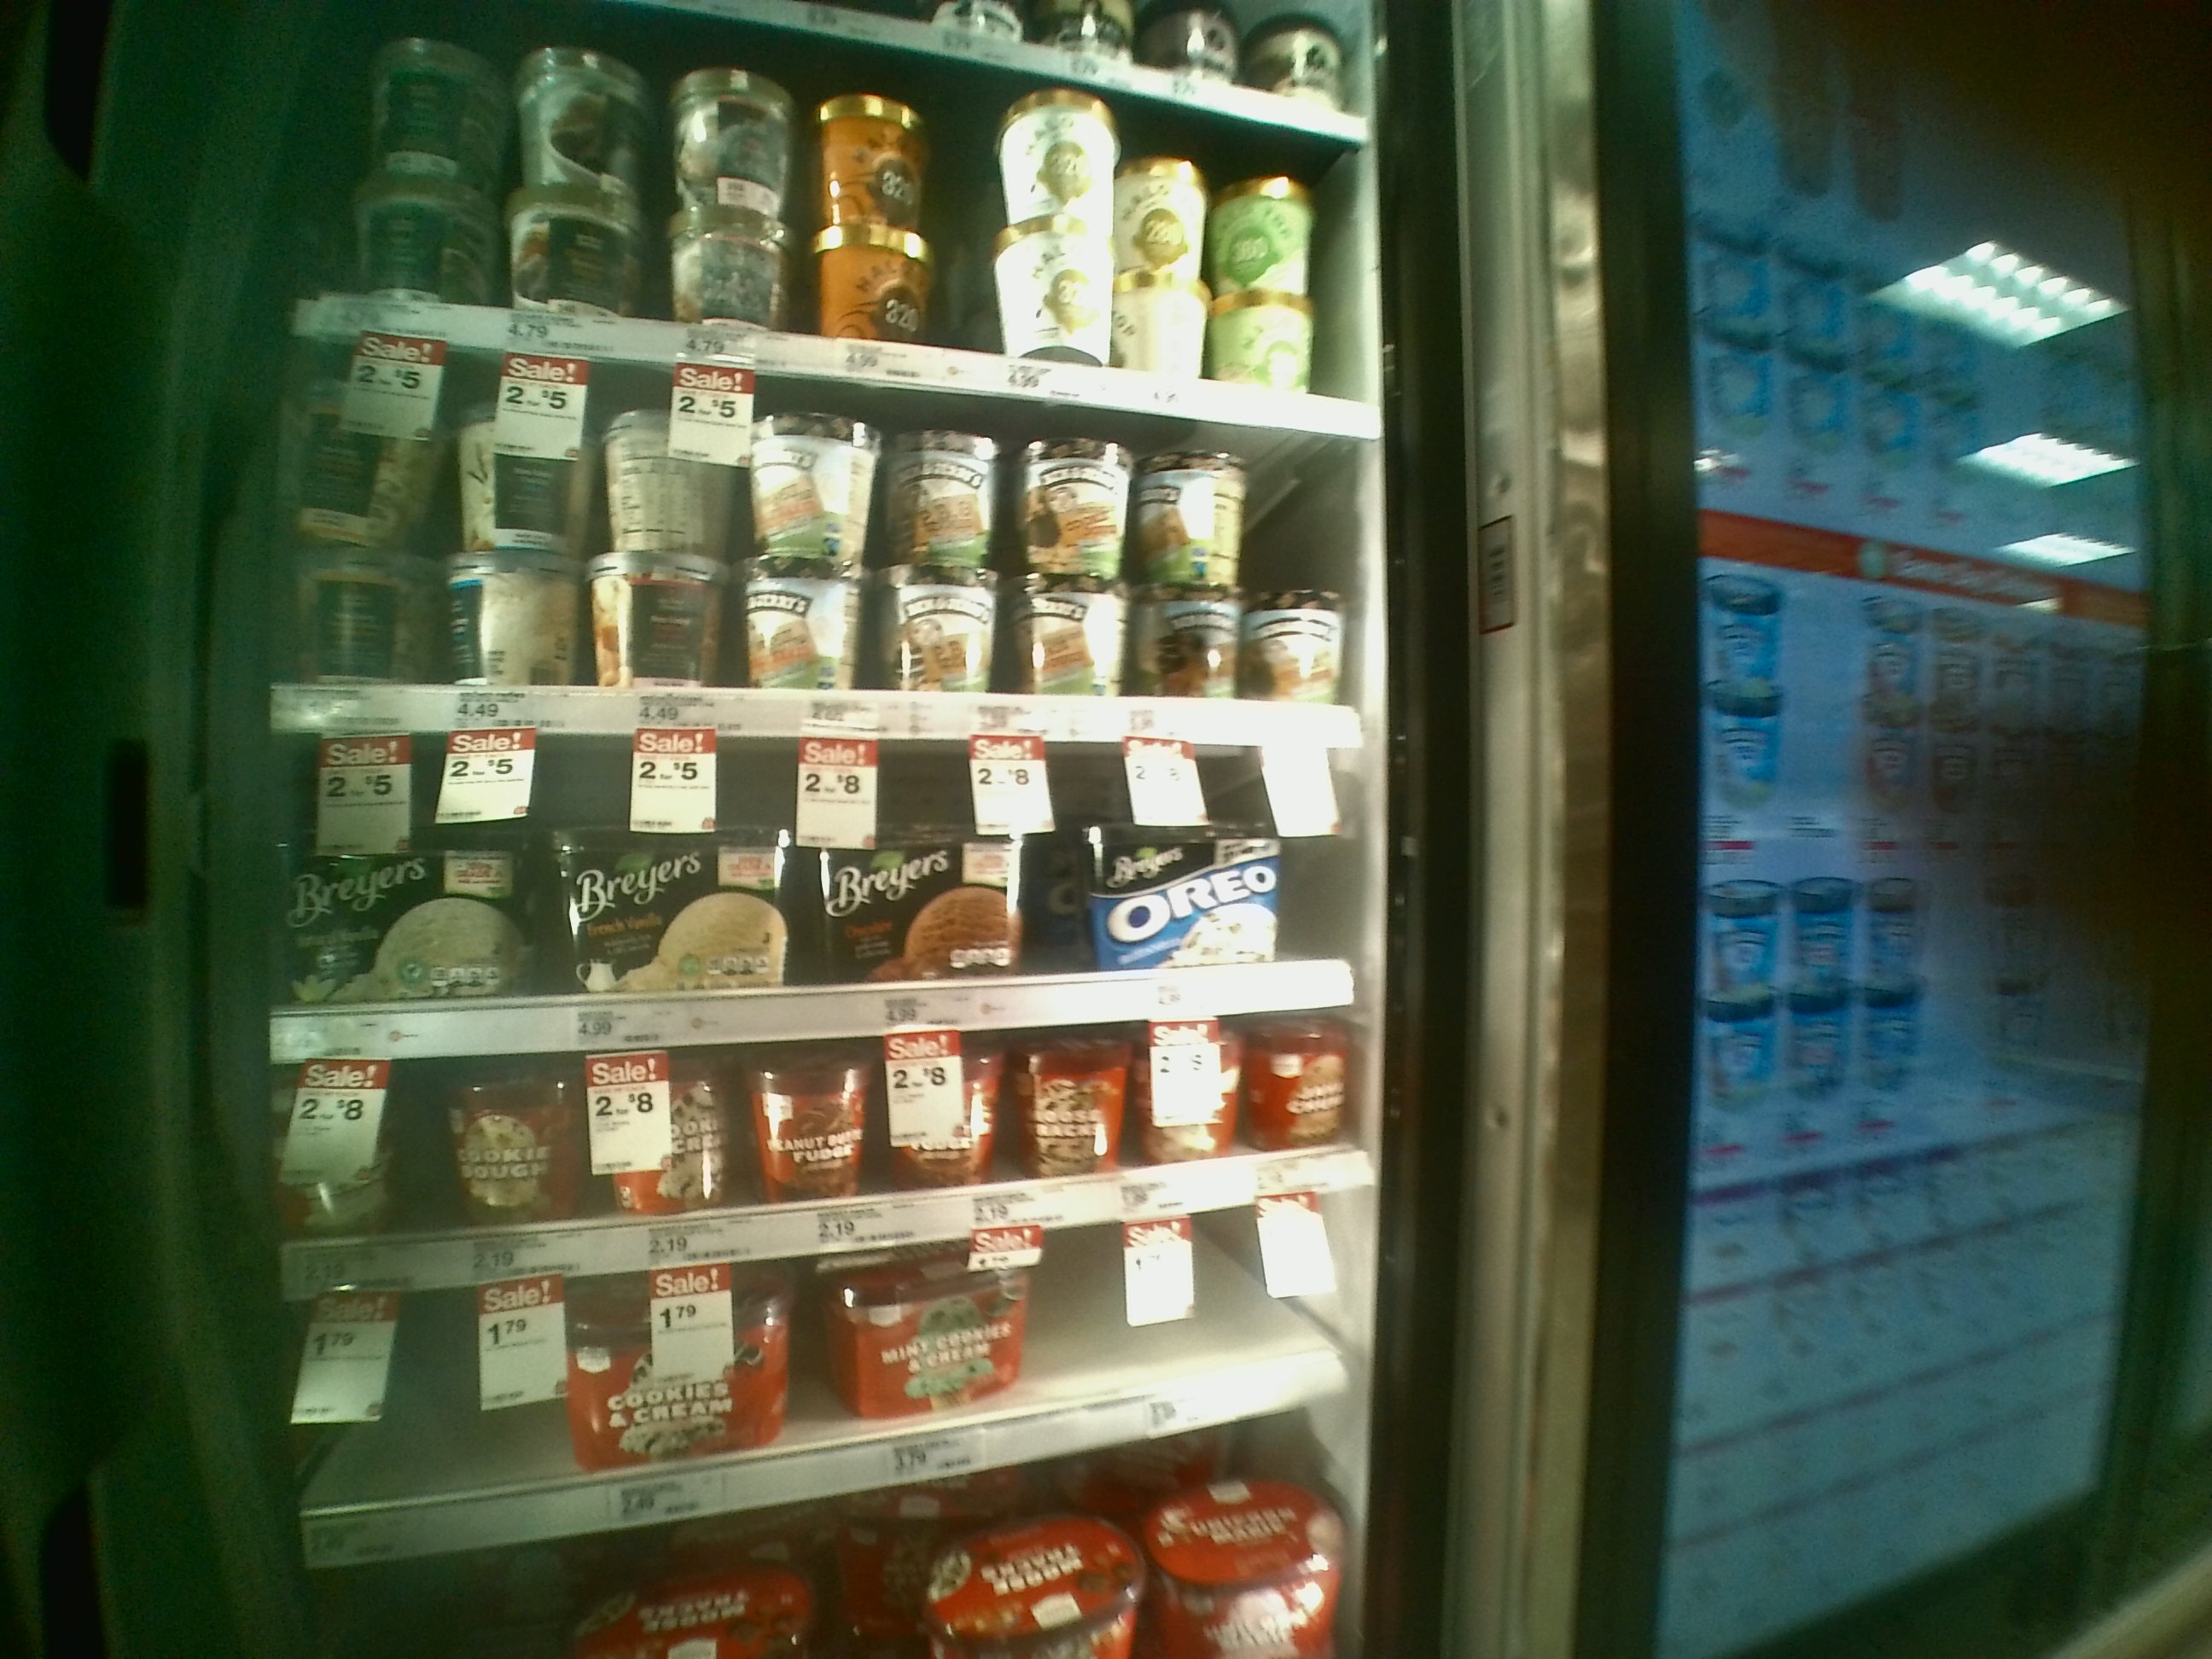shelf: (273, 328, 1383, 739), (268, 737, 1371, 1047), (268, 990, 1359, 1229)
